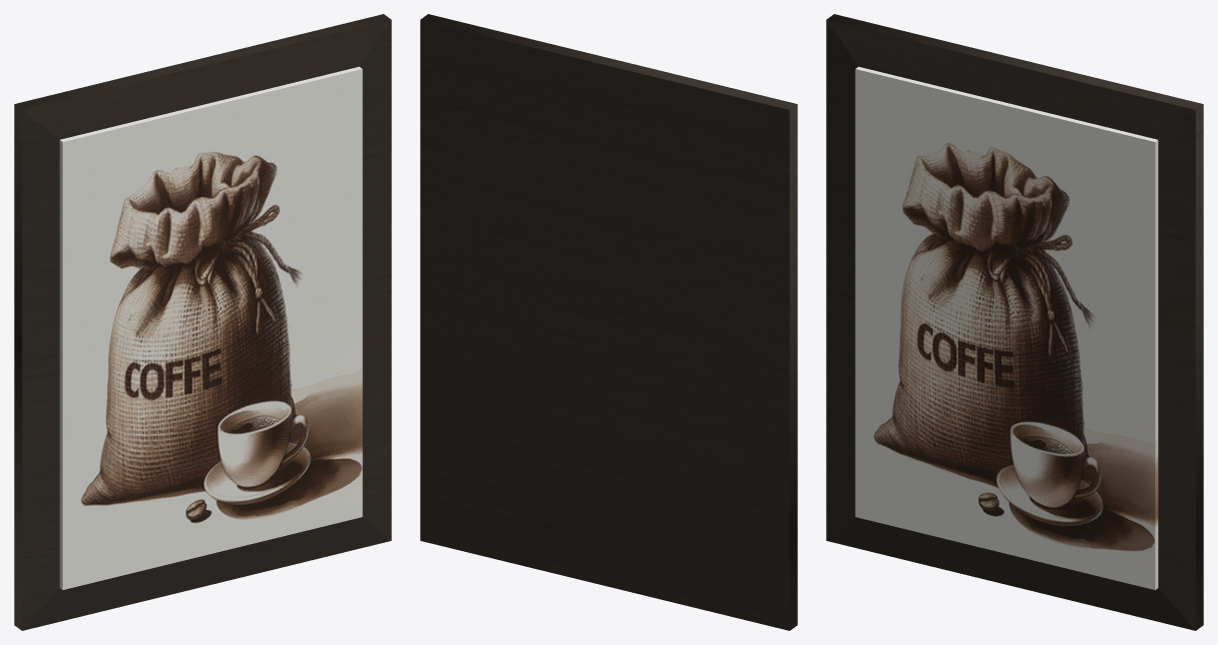
File: Painting.fbx
3 renders of one model, left to right at view 1: azimuth 30°, elevation 25°; view 2: azimuth 150°, elevation 25°; view 3: azimuth 330°, elevation 25°, orthographic.
Parts seen in each view (by area): view 1: Painting; view 2: Painting; view 3: Painting.
Part boxes in pixels (left/top/right/bottom): Painting: left=14, top=14, right=391, bottom=630; Painting: left=420, top=14, right=797, bottom=630; Painting: left=826, top=14, right=1203, bottom=630.
Bounding box in the file's own units: 148 × 200 × 9.53.
